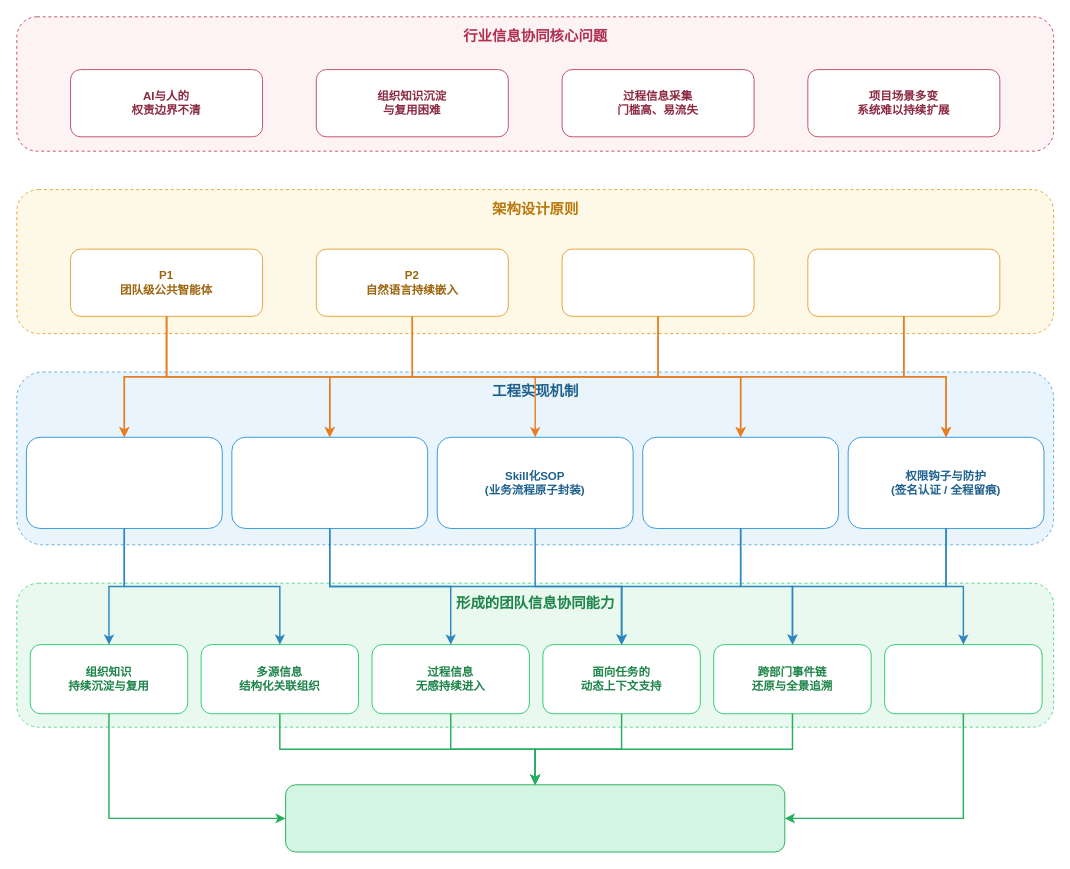
The diagram is 1070 pixels wide and 869 high, and some of its shapes have lost their labels. Each missing label, with the box of its shape:
LLM增强FSM (项目动态态势感知): (642, 436, 839, 528)
P3 工具化辅助定位: (561, 248, 754, 316)
P4 受控扩展与演进: (807, 248, 1000, 316)
三书认知基座 (态势 — 规则 — 能力): (25, 436, 222, 528)
三智能体协作机制 (Session/WorkItem/Guardian): (231, 436, 428, 528)
地产项目团队信息协同能力提升: (285, 784, 785, 852)
多来源对照 智能交叉验证: (884, 644, 1042, 714)
